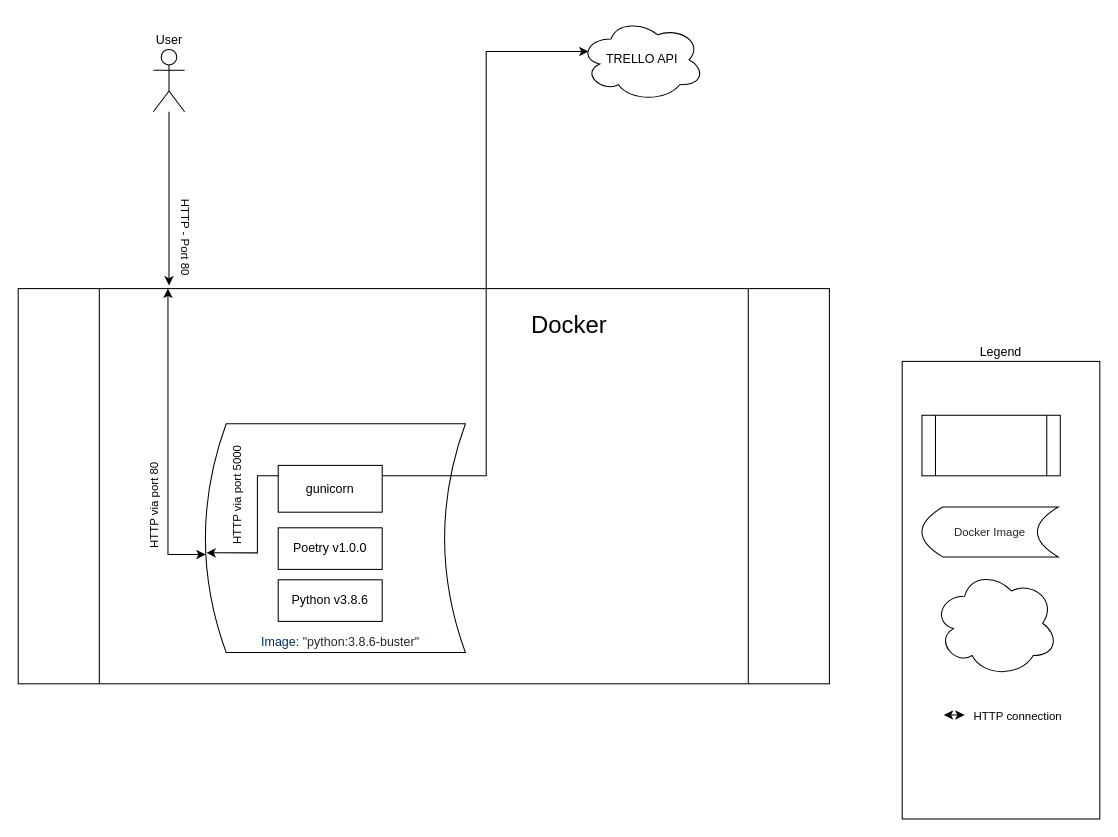
The diagram is 1118 pixels wide and 837 high, and some of its shapes have lost their labels. The box of each missing label's shape, as (x1, y1, x2, y2) in pixels:
Docker Daemon: (921, 414, 1060, 476)
External API: (932, 568, 1058, 677)
Web Application Container ( todo-app:prod): (204, 423, 465, 653)
